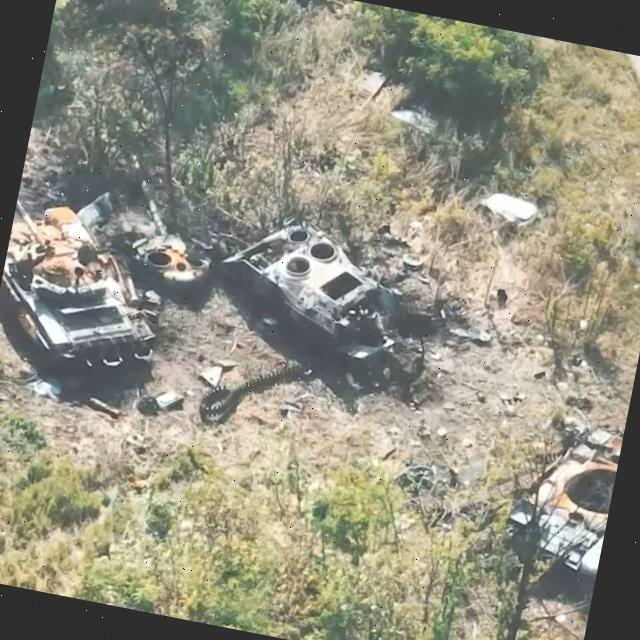Destroyed: (1, 196, 181, 392), (208, 207, 416, 374), (494, 411, 626, 572)
